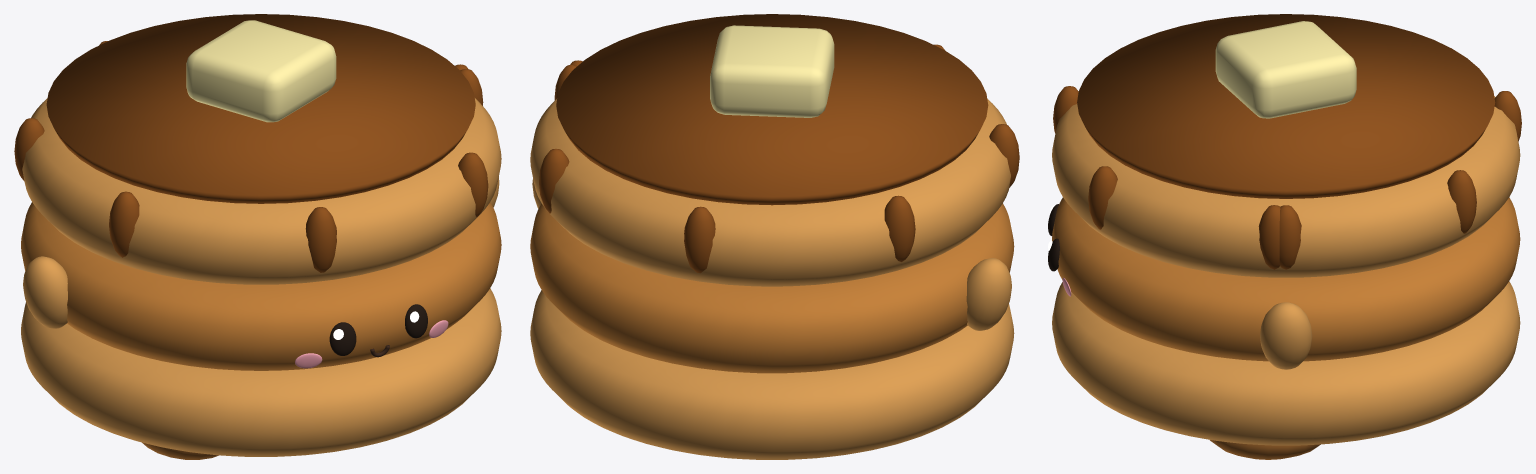
The model's file is pancake.glb.
3 renders of one model, left to right at view 1: azimuth 30°, elevation 25°; view 2: azimuth 150°, elevation 25°; view 3: azimuth 270°, elevation 25°, orthographic. The views are drawn at different scales.
Visible parts, largest first — view 1: pancake; view 2: pancake; view 3: pancake.
Part boxes in pixels (x1,y1,x2,y2): pancake: [14, 14, 501, 459]; pancake: [530, 14, 1019, 459]; pancake: [1048, 14, 1521, 459].
Bounding box in the file's own units: 0.0883 × 0.0676 × 0.0793.
